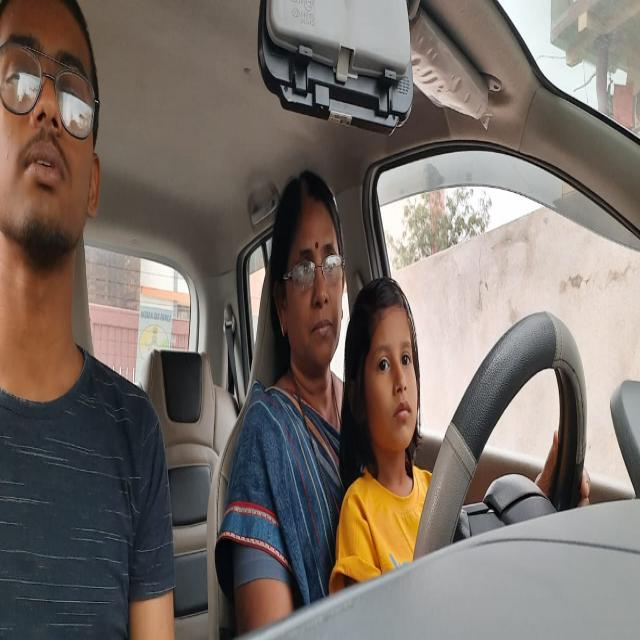child: (354, 300, 422, 452)
person: (2, 3, 104, 248), (272, 180, 346, 361)
